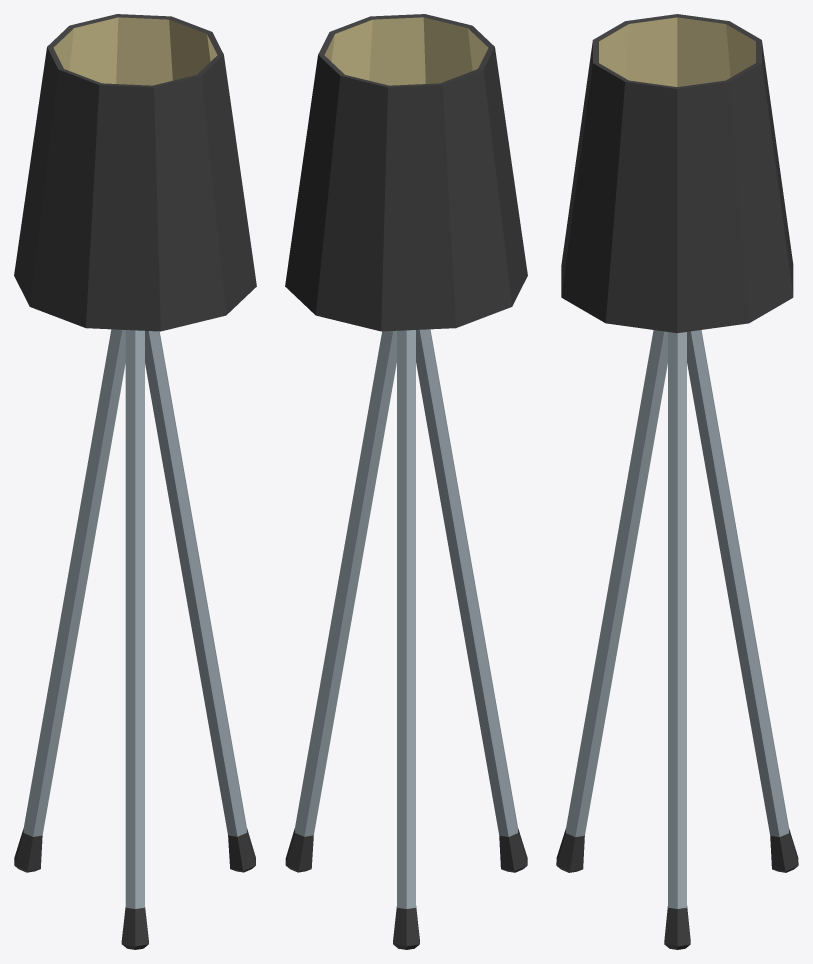
Rendered from lamp-by-burunduk-yrGsZFikQi.glb.
3 views of the same model, side by side, from view 1: azimuth 30°, elevation 25°; view 2: azimuth 150°, elevation 25°; view 3: azimuth 270°, elevation 25° (orthographic).
Visible parts, largest first — view 1: Cylinder409; view 2: Cylinder409; view 3: Cylinder409.
Boxes of the visible parts, left/top/right/bottom form: Cylinder409: left=14, top=14, right=256, bottom=949; Cylinder409: left=285, top=14, right=527, bottom=949; Cylinder409: left=556, top=14, right=798, bottom=949.
Bounding box in the file's own units: 0.4739 × 1.69 × 0.4392.
